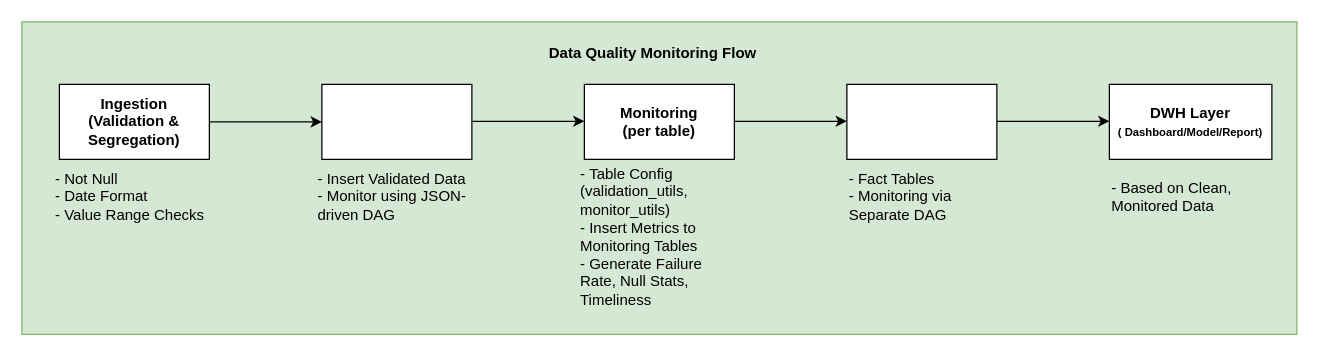
This 1319x356 diagram has some shape labels left out. The shapes that lost their labels are listed below. From the top down, each one's box as (x1, y1, x2, y2) in pixels, then its label:
(321, 83, 472, 159): ODS Layer
(846, 83, 997, 159): DWH Layer
